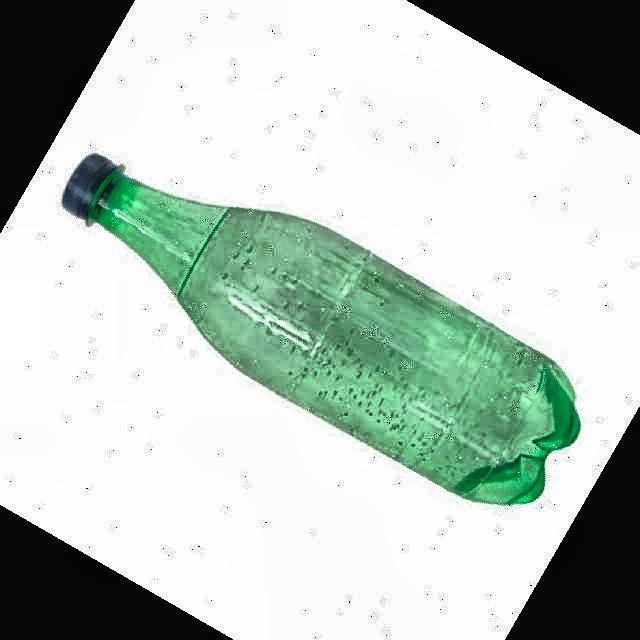plastic: (62, 155, 580, 504)
